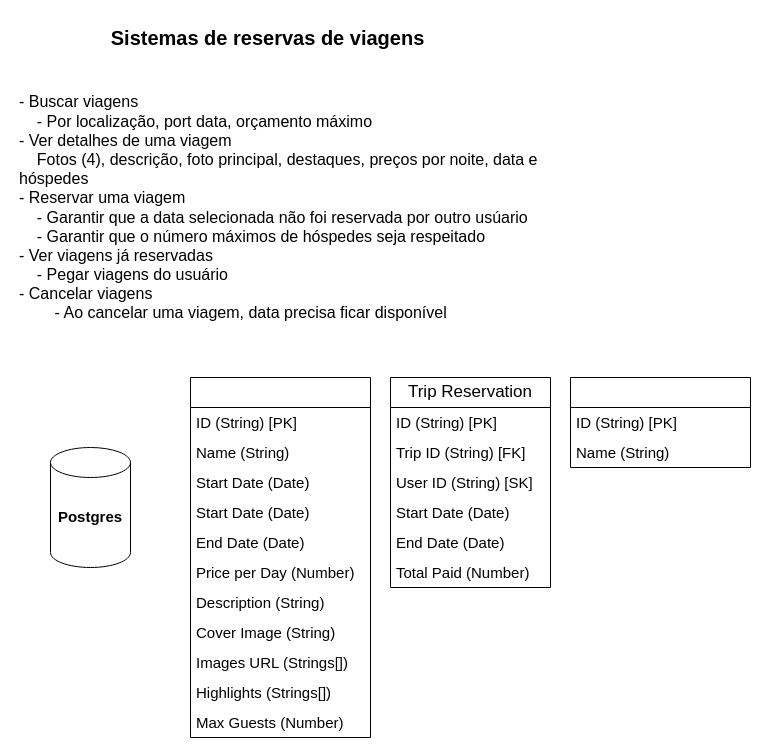
This 768x755 diagram has some shape labels left out. The shapes that lost their labels are listed below. From the top down, each one's box as (x1, y1, x2, y2) in pixels, then its label:
(570, 376, 750, 468): User
(190, 376, 370, 738): Trip
